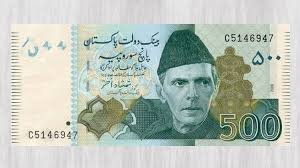500 rupee: (7, 17, 289, 152)
